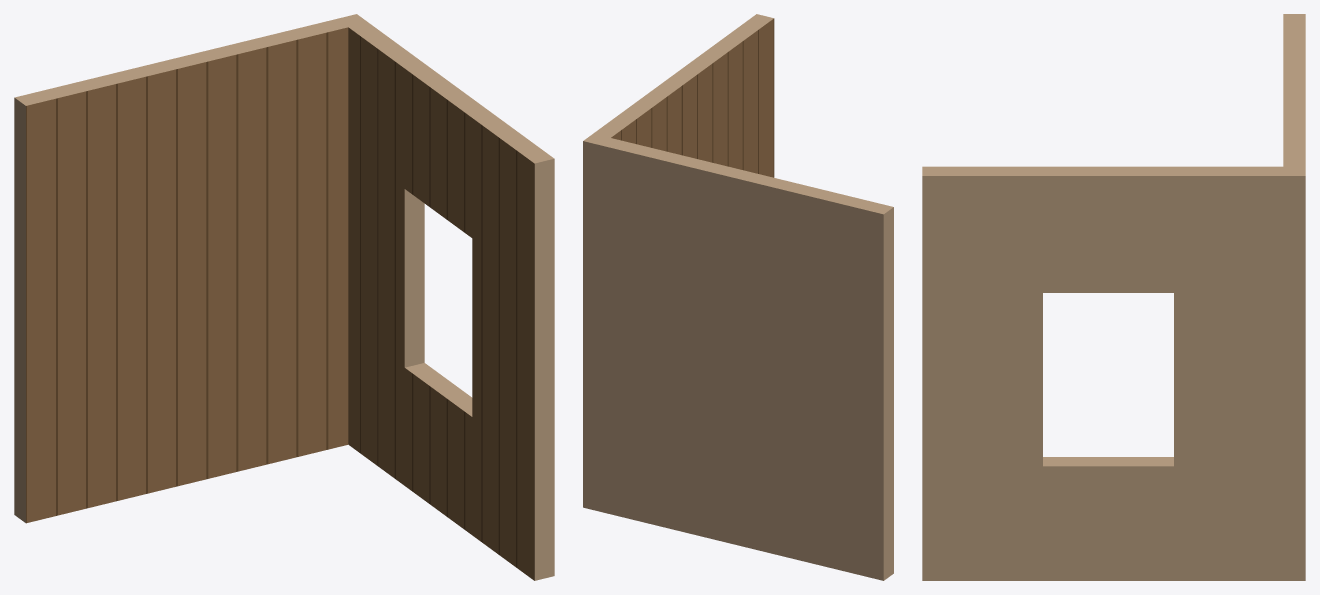
File: Wall2_C9_08.fbx
3 views of the same model, side by side, from view 1: azimuth 30°, elevation 25°; view 2: azimuth 150°, elevation 25°; view 3: azimuth 270°, elevation 25° (orthographic). The views are drawn at different scales.
Visible parts, largest first — view 1: Wall2_C9_08; view 2: Wall2_C9_08; view 3: Wall2_C9_08.
Boxes of the visible parts, box(x1,y1,x2,y2) form: Wall2_C9_08: box(14, 14, 554, 580); Wall2_C9_08: box(583, 14, 893, 580); Wall2_C9_08: box(922, 14, 1305, 580).
Bounding box in the file's own units: 258 × 300 × 258.
